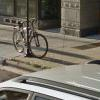Bicycle: (3, 12, 53, 64)
